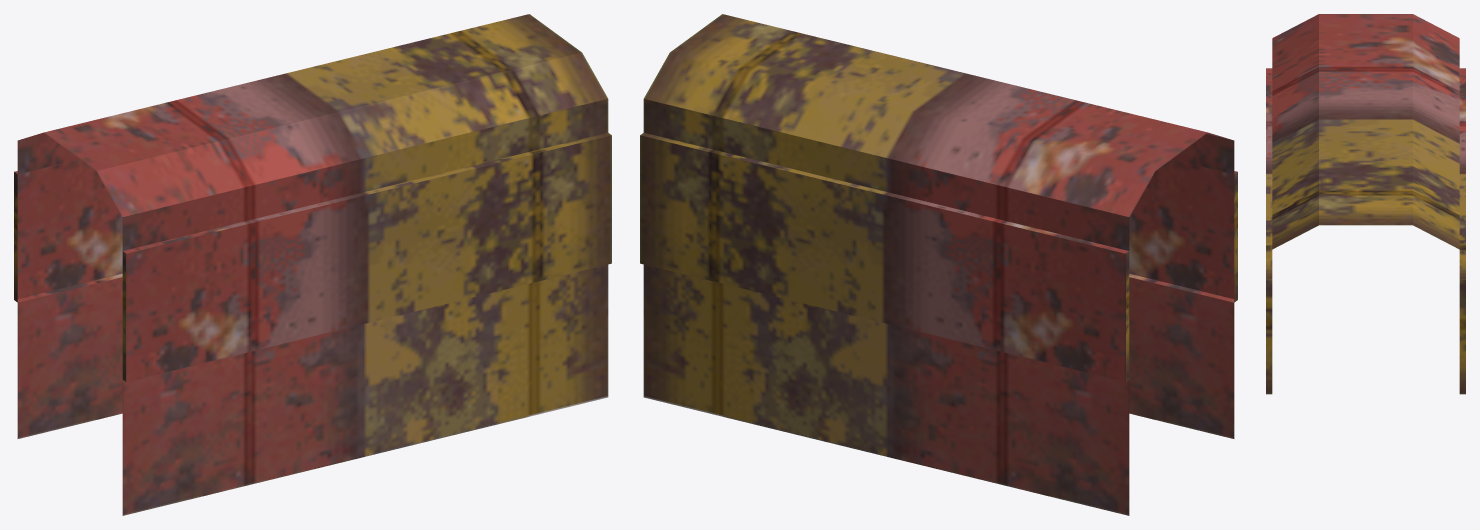
Rendered from SM_WALL_S_11.fbx.
3 views of the same model, side by side, from view 1: azimuth 30°, elevation 25°; view 2: azimuth 150°, elevation 25°; view 3: azimuth 270°, elevation 25° (orthographic). The views are drawn at different scales.
Parts seen in each view (by area): view 1: SM_WALL_S_11; view 2: SM_WALL_S_11; view 3: SM_WALL_S_11.
Part boxes in pixels (x1=…): SM_WALL_S_11: x1=14, y1=14, x2=611, y2=515; SM_WALL_S_11: x1=640, y1=14, x2=1237, y2=515; SM_WALL_S_11: x1=1266, y1=14, x2=1465, y2=394.
Size of the model in its own units: 4 by 2.56 by 1.6.
